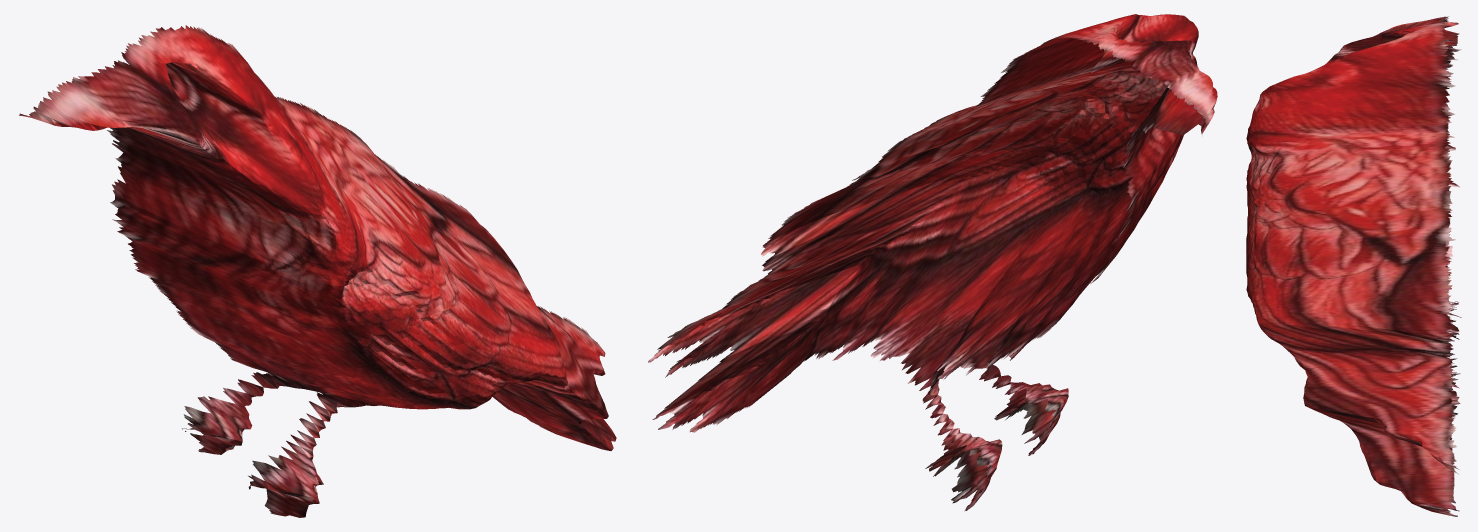
The model's file is raven_subject.obj.
3 views of the same model, side by side, from view 1: azimuth 30°, elevation 25°; view 2: azimuth 150°, elevation 25°; view 3: azimuth 270°, elevation 25° (orthographic). The views are drawn at different scales.
Visible parts, largest first — view 1: raven_subject; view 2: raven_subject; view 3: raven_subject.
Boxes of the visible parts, bbox=[...] form: raven_subject: bbox=[19, 25, 616, 517]; raven_subject: bbox=[648, 14, 1217, 511]; raven_subject: bbox=[1246, 16, 1461, 516].
Size of the model in its own units: 1.6 by 1.36 by 0.759.
1 material, 1 textured.
